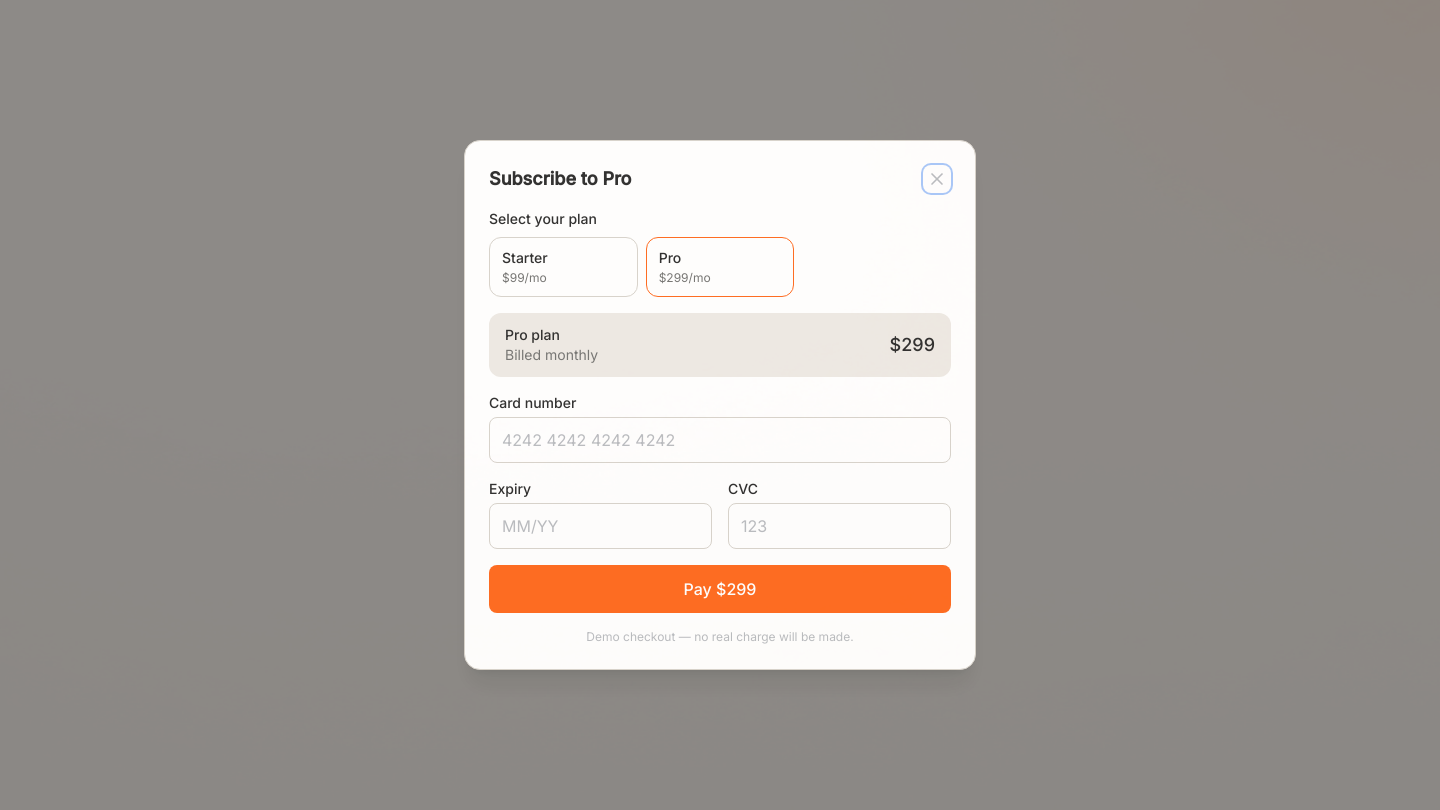
Test: PaymentModal › blocks submission and shows errors for an invalid card
Type "1234 5678 9012 3456" into the field labelled "Card number".
click(720, 440); type("1234 5678 9012 3456")  # box [489,417,951,463]
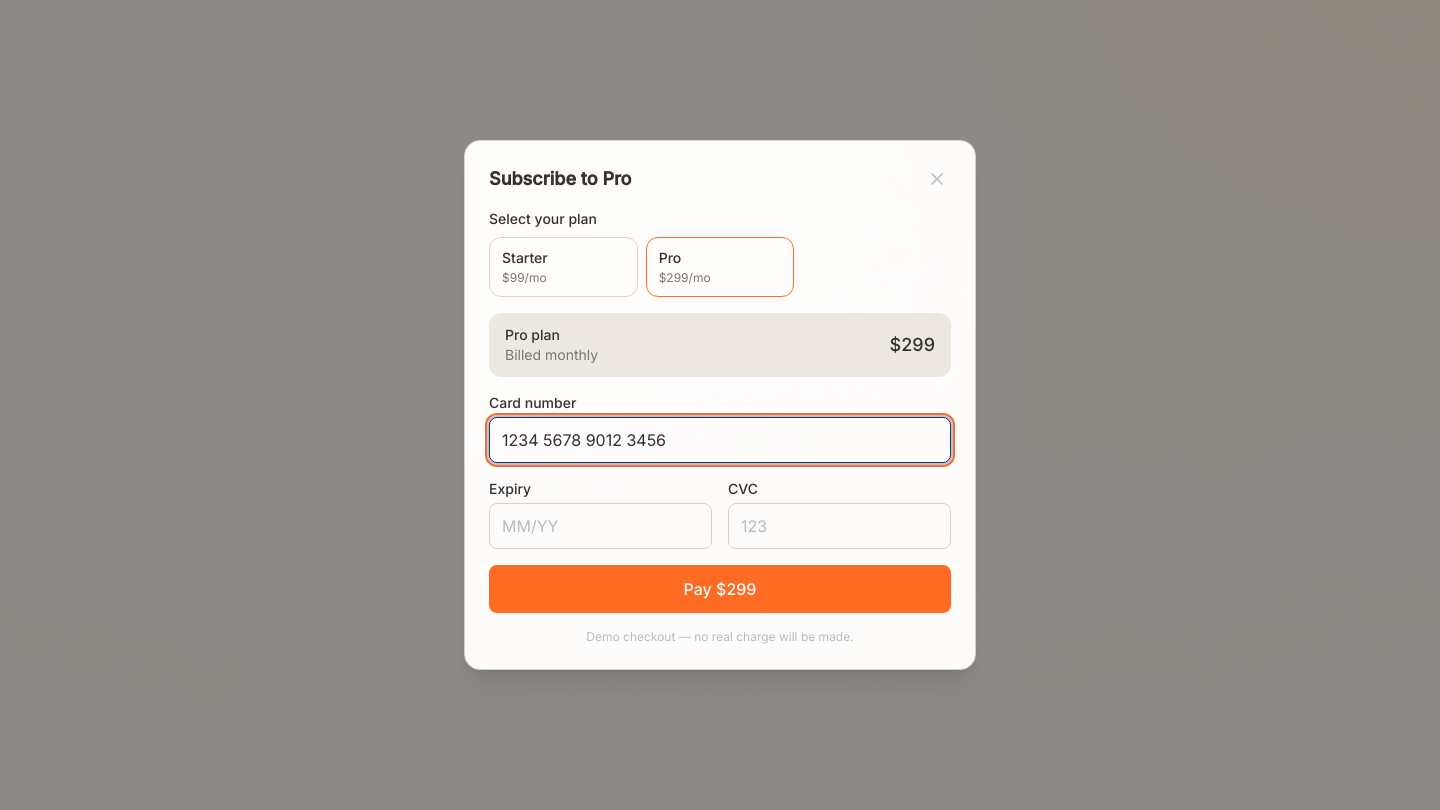
Click the button "Pay $299".
click(720, 589)  # box [489,565,951,613]
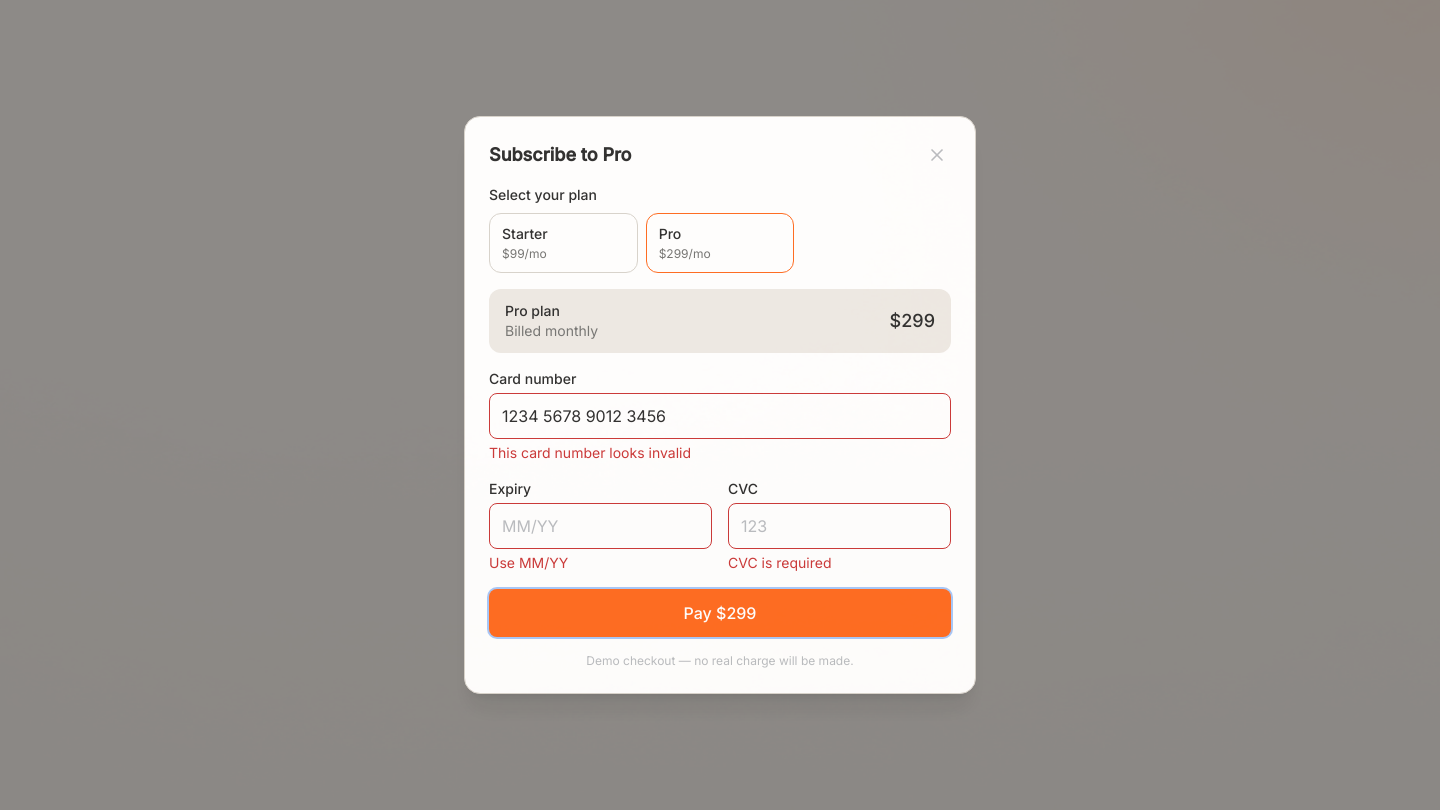
Expected: the text "This card number looks invalid" is shown, [489,444,691,461]
Expected: the text "Use MM/YY" is shown, [489,554,568,571]
Expected: the text "CVC is required" is shown, [728,554,832,571]
